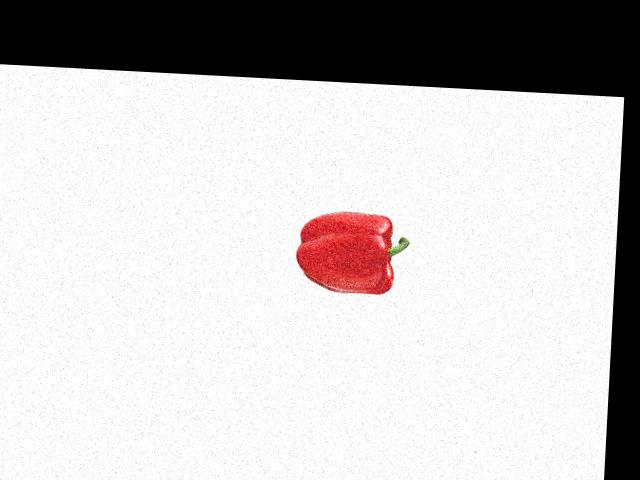bell_pepper: (291, 204, 410, 301)
